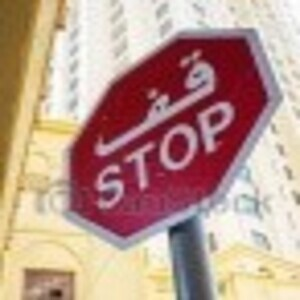stop: (62, 27, 282, 244)
